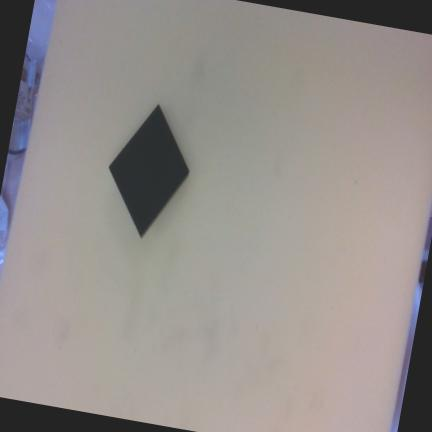tile: (87, 103, 210, 236)
